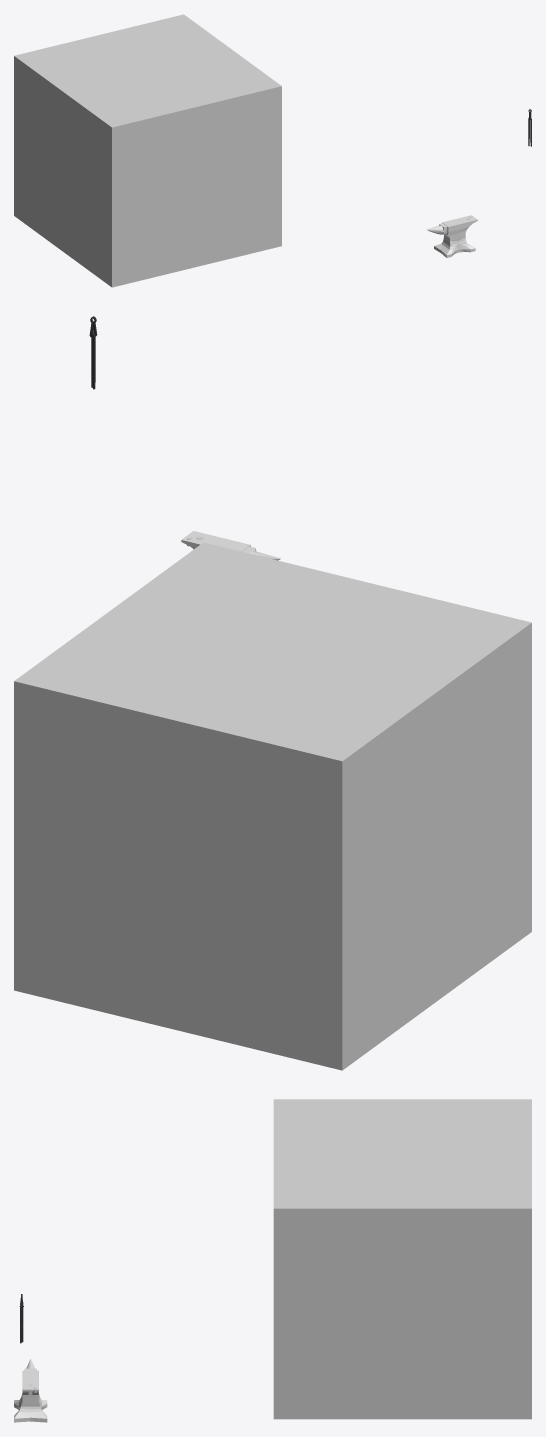
The model's file is rivettong.dae.
3 renders of one model, top to bottom at view 1: azimuth 30°, elevation 25°; view 2: azimuth 150°, elevation 25°; view 3: azimuth 270°, elevation 25°, orthographic. The views are drawn at different scales.
Visible parts, largest first — view 1: Cube_004, Cube_002; view 2: Cube_004, Cube_002; view 3: Cube_004, Cube_002.
Boxes of the visible parts, x1=… form: Cube_004: x1=14, y1=14, x2=281, y2=287; Cube_002: x1=426, y1=215, x2=477, y2=257; Cube_004: x1=14, y1=542, x2=531, y2=1070; Cube_002: x1=181, y1=531, x2=280, y2=560; Cube_004: x1=273, y1=1099, x2=531, y2=1419; Cube_002: x1=14, y1=1359, x2=47, y2=1422.
Bounding box in the file's own units: 3.81 × 4.01 × 1.91.
1 material, 1 textured.
